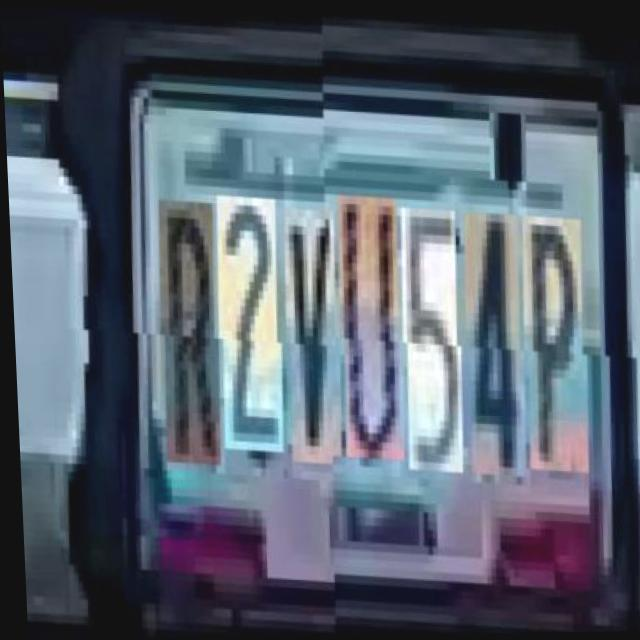2: (214, 191, 287, 449)
4: (460, 212, 530, 478)
5: (397, 210, 468, 476)
p: (520, 216, 593, 473)
r: (155, 197, 225, 464)
u: (335, 198, 408, 464)
v: (282, 203, 345, 461)
